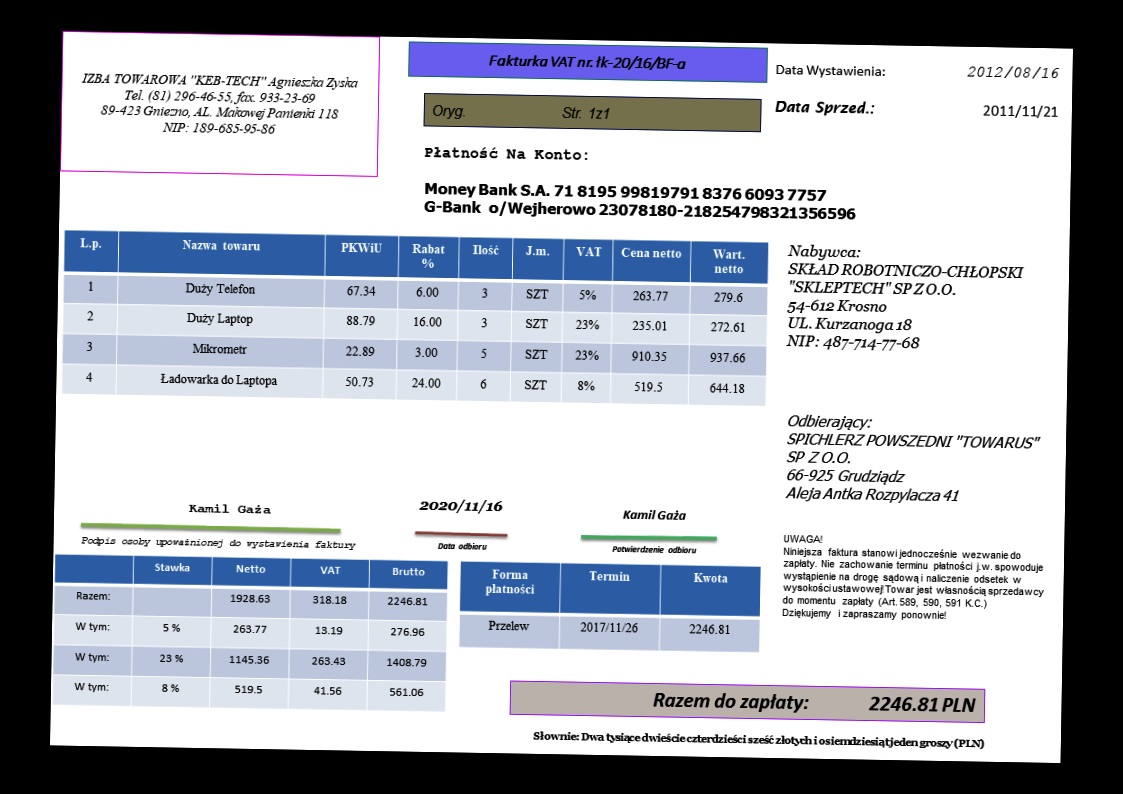Table: (60, 227, 769, 408), (52, 553, 448, 712), (458, 559, 762, 653)
TextBox: (783, 241, 1026, 356), (779, 530, 1049, 625), (782, 411, 1046, 508), (79, 66, 360, 140), (421, 178, 859, 225), (530, 727, 986, 752), (649, 687, 979, 718), (79, 533, 358, 554), (484, 51, 689, 74), (430, 100, 613, 124), (420, 143, 590, 165), (771, 97, 882, 119), (773, 60, 888, 79), (964, 62, 1062, 83), (416, 495, 504, 516), (186, 500, 276, 518), (979, 102, 1061, 120), (610, 541, 697, 557), (618, 506, 689, 523), (434, 540, 490, 553)
